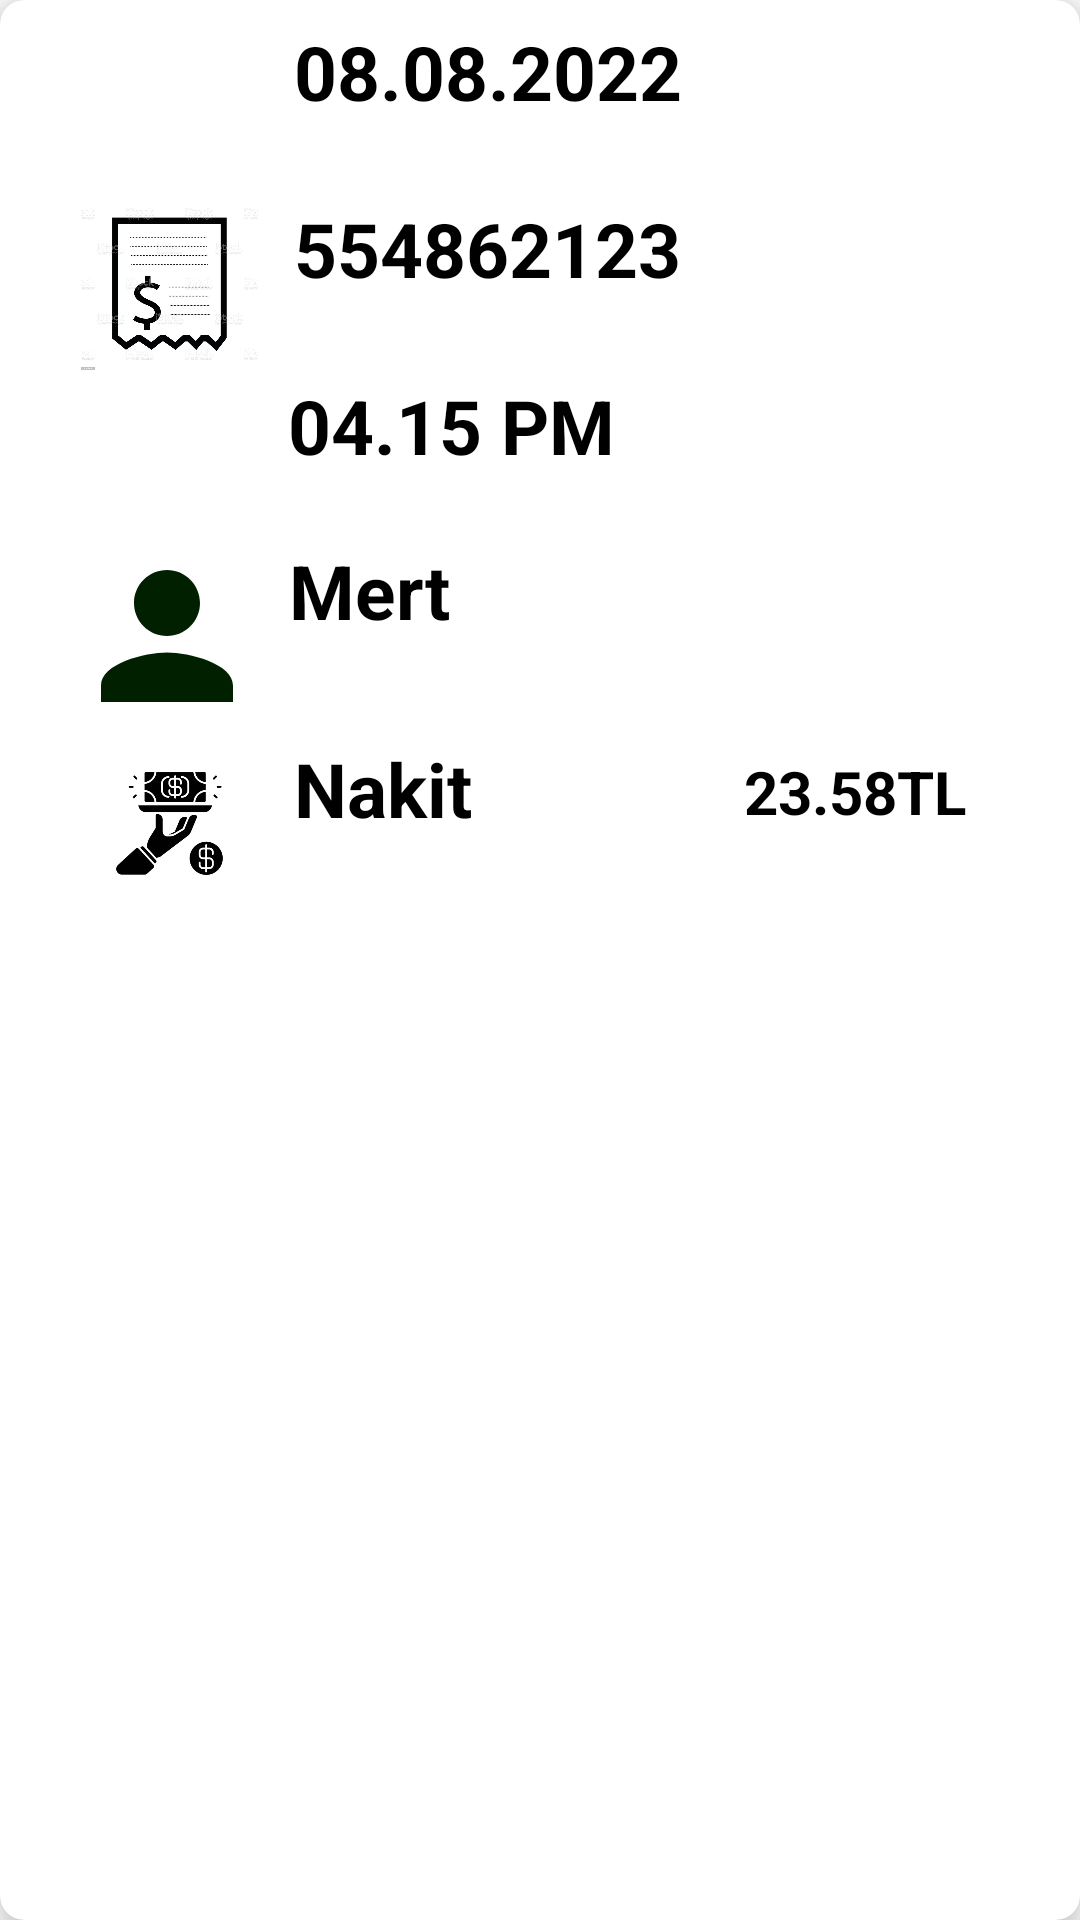

Where to tap for icons on this 1080 x 1920 app screen, as point (x, y):
fatura: point (168, 291)
odemesekli: point (169, 823)
person: point (167, 636)
